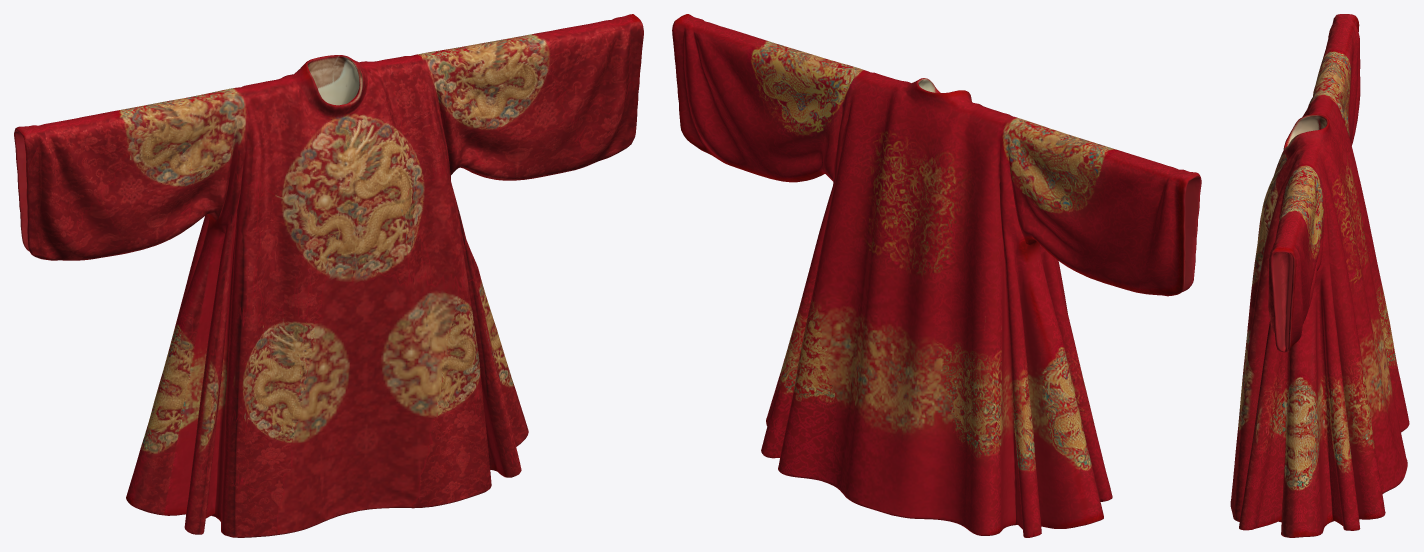
Rendered from robe.glb.
3 views of the same model, side by side, from view 1: azimuth 30°, elevation 25°; view 2: azimuth 150°, elevation 25°; view 3: azimuth 270°, elevation 25° (orthographic). The views are drawn at different scales.
Parts seen in each view (by area): view 1: tripo_node_20eb9763-c2f8-4f5e-a186-865b3940b923; view 2: tripo_node_20eb9763-c2f8-4f5e-a186-865b3940b923; view 3: tripo_node_20eb9763-c2f8-4f5e-a186-865b3940b923.
Boxes of the visible parts, left/top/right/bottom form: tripo_node_20eb9763-c2f8-4f5e-a186-865b3940b923: left=14, top=14, right=643, bottom=537; tripo_node_20eb9763-c2f8-4f5e-a186-865b3940b923: left=672, top=14, right=1201, bottom=537; tripo_node_20eb9763-c2f8-4f5e-a186-865b3940b923: left=1230, top=14, right=1409, bottom=537.
Size of the model in its own units: 0.9981 by 0.6907 by 0.3167.
Materials: 1 (1 with a texture image).
